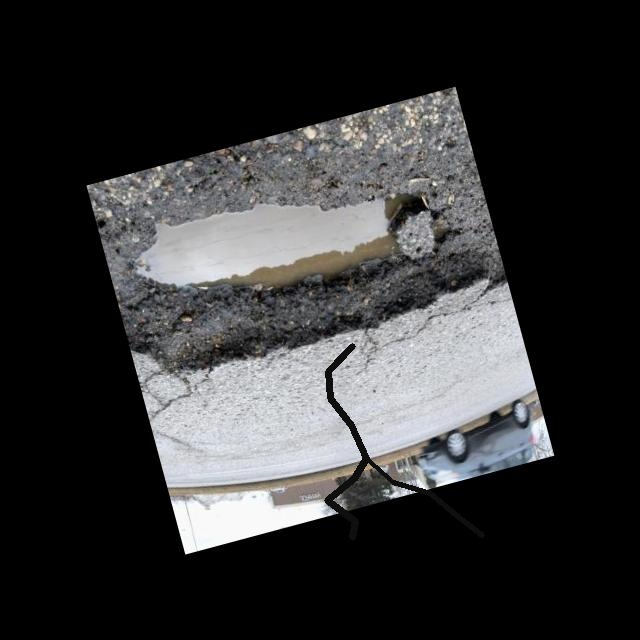road_crack: (314, 336, 378, 547)
